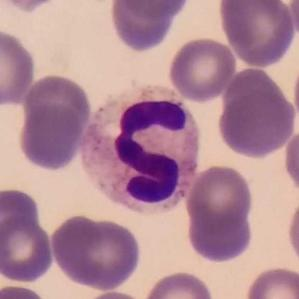Neutrophil: (75, 84, 206, 223)
RBC: (49, 213, 143, 292), (216, 84, 298, 158), (217, 0, 298, 69), (184, 163, 256, 235), (20, 72, 94, 139), (15, 104, 86, 173), (167, 35, 238, 103), (184, 207, 256, 264), (0, 213, 56, 285), (107, 0, 181, 54), (0, 25, 38, 108), (0, 184, 42, 253), (140, 268, 216, 299), (243, 264, 299, 299), (113, 0, 194, 20), (284, 190, 299, 274), (281, 126, 299, 196), (0, 282, 53, 299), (0, 0, 63, 14), (79, 288, 151, 299), (287, 0, 299, 46)
